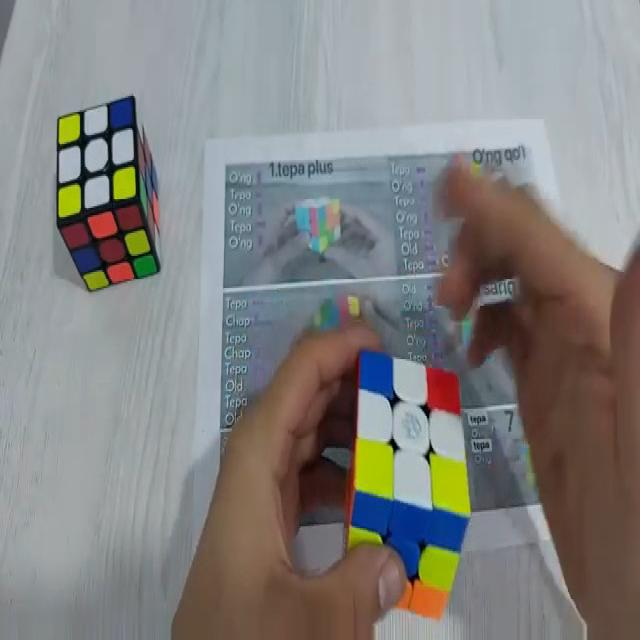Rub: (344, 349, 472, 621), (58, 92, 162, 293)
